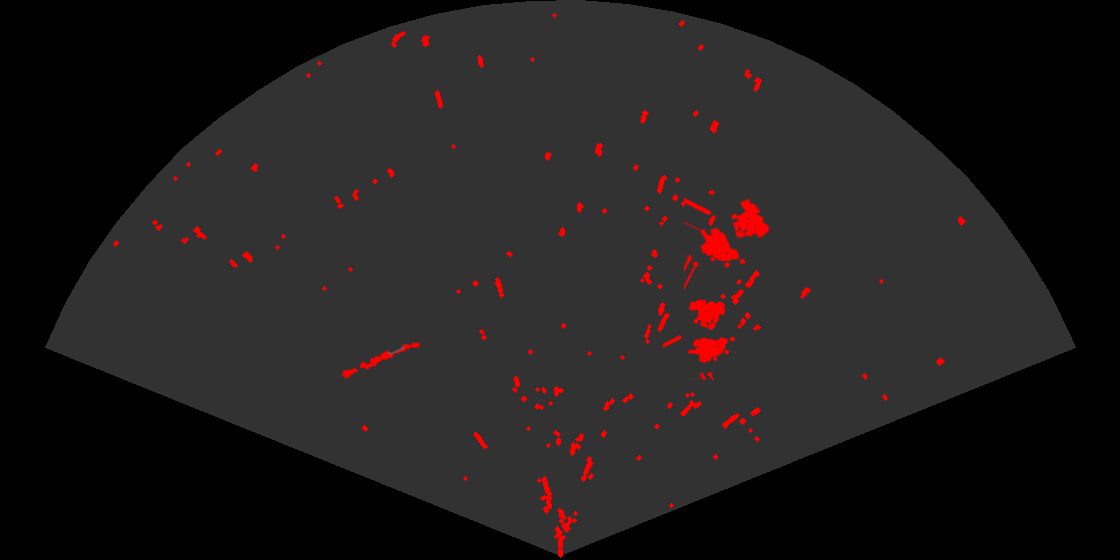cage: (684, 196, 771, 292), (663, 298, 737, 380)
chain: (334, 341, 422, 382)
